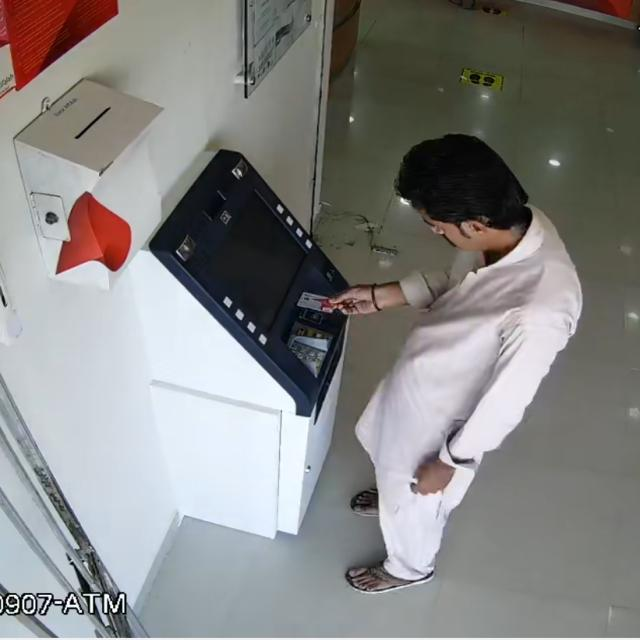atm-card: (290, 282, 347, 320)
